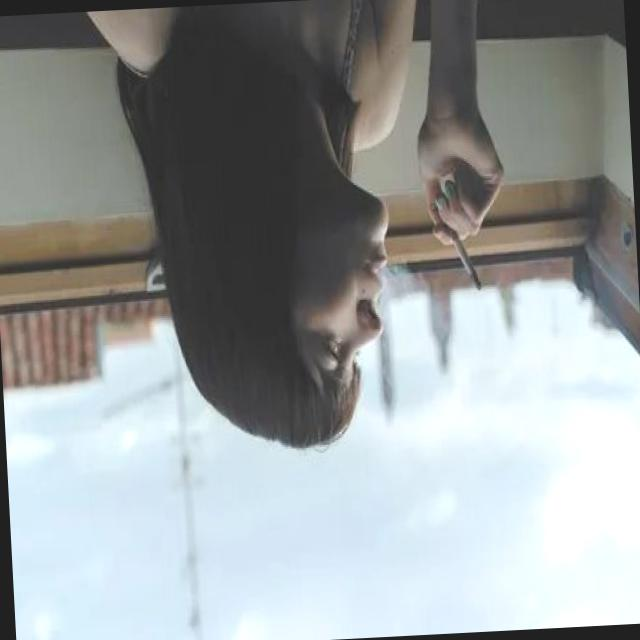cigarette: (442, 222, 487, 296)
